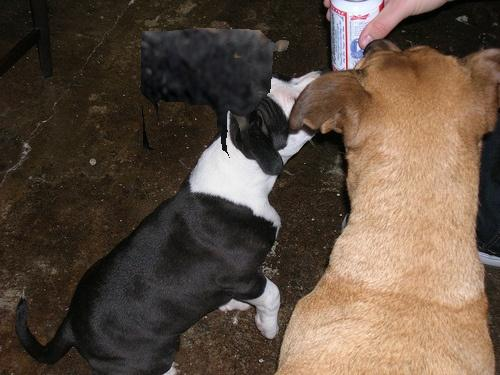tampered: (141, 29, 289, 159)
